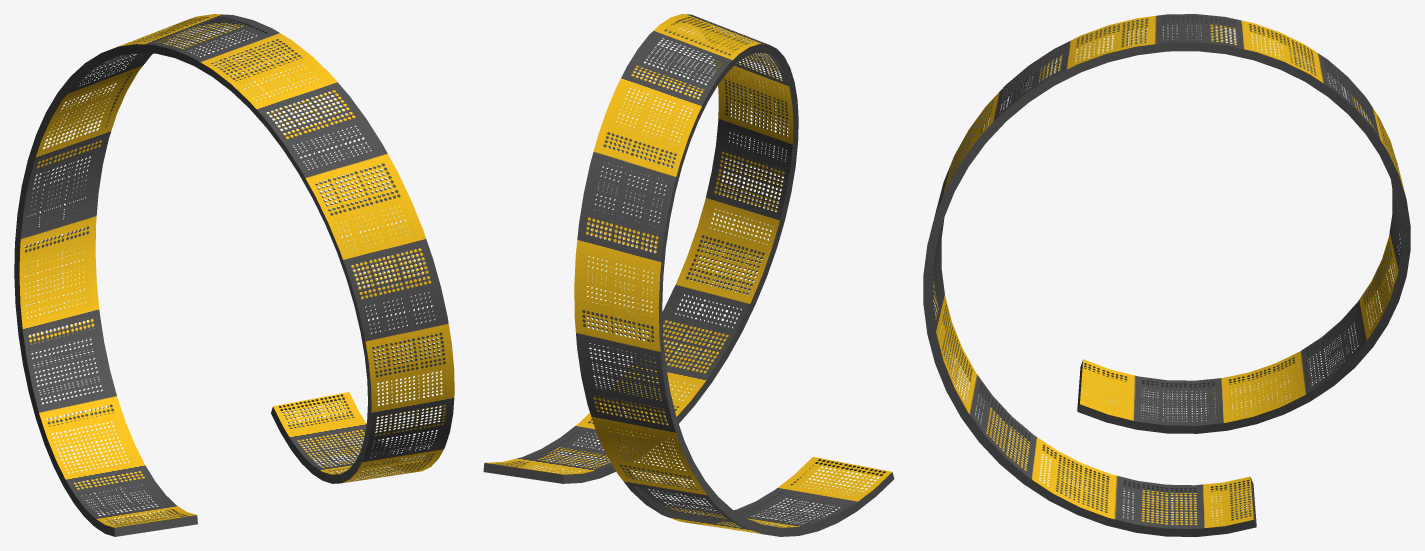
The picture shows the model from 3 angles, left to right: view 1: azimuth 30°, elevation 25°; view 2: azimuth 150°, elevation 25°; view 3: azimuth 270°, elevation 25°; orthographic projection.
Parts seen in each view (by area): view 1: p; view 2: p; view 3: p.
Part boxes in pixels (x1,y1,x2,y2): p: [14, 14, 454, 536]; p: [483, 14, 894, 536]; p: [923, 14, 1410, 536].
Bounding box in the file's own units: 9110 × 12132 × 12109.
